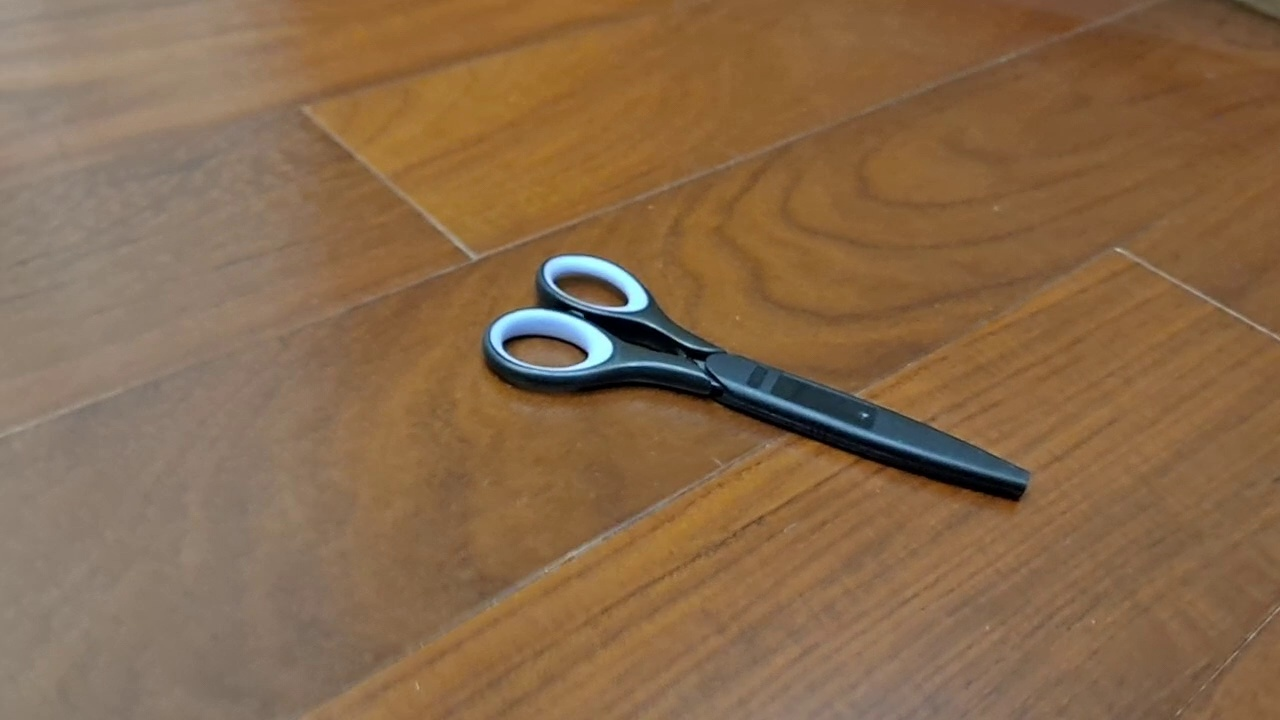scissors: (480, 250, 1033, 505)
